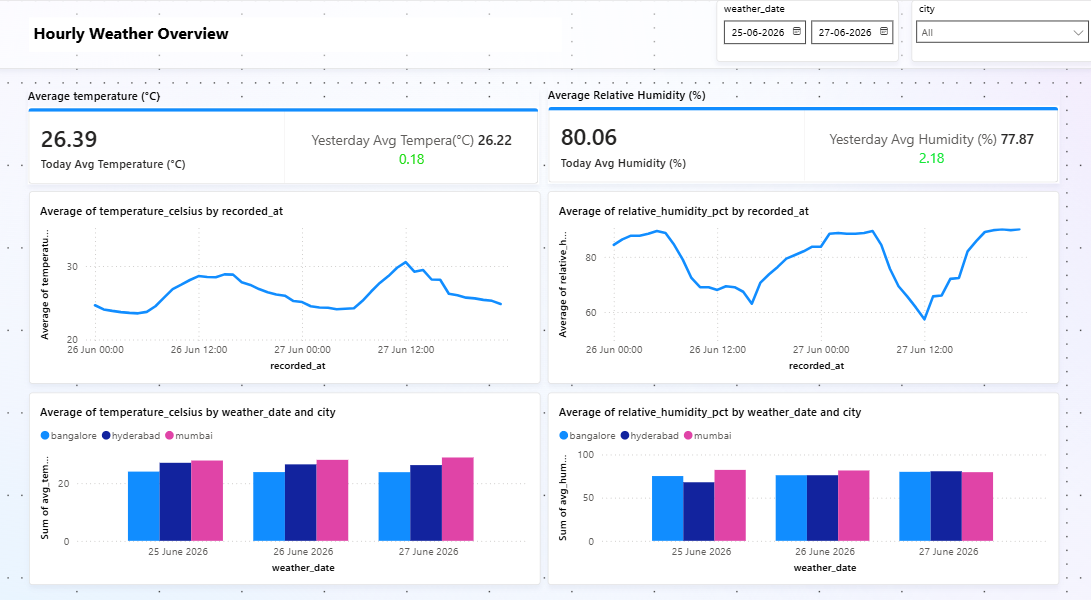

What the dashboard file says about the page in this screenshot:
{"tool":"powerbi","page":{"name":"Hourly Weather Overview","canvas":[1280,720],"ordinal":0},"visuals":[{"type":"shape","box":[0,0,1280,80],"z":0},{"type":"cardVisual","title":"Average Relative Humidity (%)","fields":{"Data":["mart_weather_daily.Today Avg Humidity (%)"]},"box":[644.9,100.9,595.7,113.2],"z":1000},{"type":"cardVisual","title":"Average temperature (°C)","fields":{"Data":["mart_weather_daily.Today Avg Temperature (°C)"]},"box":[39,101.6,595.5,112.7],"z":2000},{"type":"clusteredColumnChart","title":"Average of relative_humidity_pct by weather_date and city","fields":{"Series":["mart_weather_daily.city"],"Y":["Sum(mart_weather_daily.avg_humidity_pct)"],"Category":["mart_weather_daily.weather_date"]},"box":[645,456,595,224],"z":3000},{"type":"lineChart","title":"Average of relative_humidity_pct by recorded_at","fields":{"Category":["stg_weather_hourly.recorded_at"],"Y":["Avg(stg_weather_hourly.relative_humidity_pct)"]},"box":[645,222,595,224],"z":4000},{"type":"lineChart","title":"Average of temperature_celsius by recorded_at","fields":{"Category":["stg_weather_hourly.recorded_at"],"Y":["Avg(stg_weather_hourly.temperature_celsius)"]},"box":[40,222,595,224],"z":5000},{"type":"clusteredColumnChart","title":"Average of temperature_celsius by weather_date and city","fields":{"Y":["Sum(mart_weather_daily.avg_temp_celsius)"],"Category":["mart_weather_daily.weather_date"],"Series":["mart_weather_daily.city"]},"box":[40,456,595,224],"z":6000},{"type":"textbox","box":[40,20,620,40],"z":7000},{"type":"slicer","fields":{"Values":["stg_weather_hourly.city"]},"box":[1068,0,212,72],"z":8000},{"type":"slicer","fields":{"Values":["stg_weather_hourly.weather_date"]},"box":[840,0,212,72],"z":9000}]}

Visuals, with their boxes in screenshot pixels (x1, y1, x2, y2), scaled from the page's 1280x720 canvas onto the 1091x600 screenshot:
shape: bbox(0, 0, 1090, 67)
"Average Relative Humidity (%)" cardVisual: bbox(550, 84, 1057, 178)
"Average temperature (°C)" cardVisual: bbox(33, 85, 541, 179)
"Average of relative_humidity_pct by weather_date and city" clusteredColumnChart: bbox(550, 380, 1057, 567)
"Average of relative_humidity_pct by recorded_at" lineChart: bbox(550, 185, 1057, 372)
"Average of temperature_celsius by recorded_at" lineChart: bbox(34, 185, 541, 372)
"Average of temperature_celsius by weather_date and city" clusteredColumnChart: bbox(34, 380, 541, 567)
textbox: bbox(34, 17, 563, 50)
slicer - stg_weather_hourly.city: bbox(910, 0, 1090, 60)
slicer - stg_weather_hourly.weather_date: bbox(716, 0, 897, 60)
